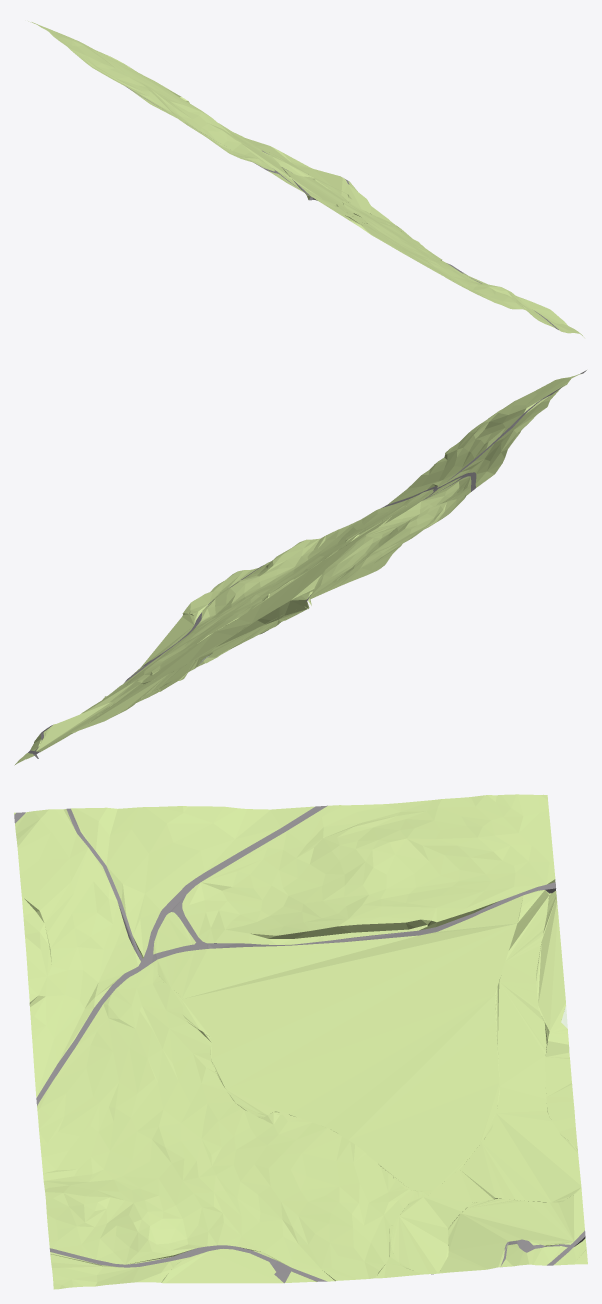
3 views of the same model, one above another, from view 1: azimuth 30°, elevation 25°; view 2: azimuth 150°, elevation 25°; view 3: azimuth 270°, elevation 25° (orthographic). The views are drawn at different scales.
Bounding box in the file's own units: 222 × 158 × 268.
